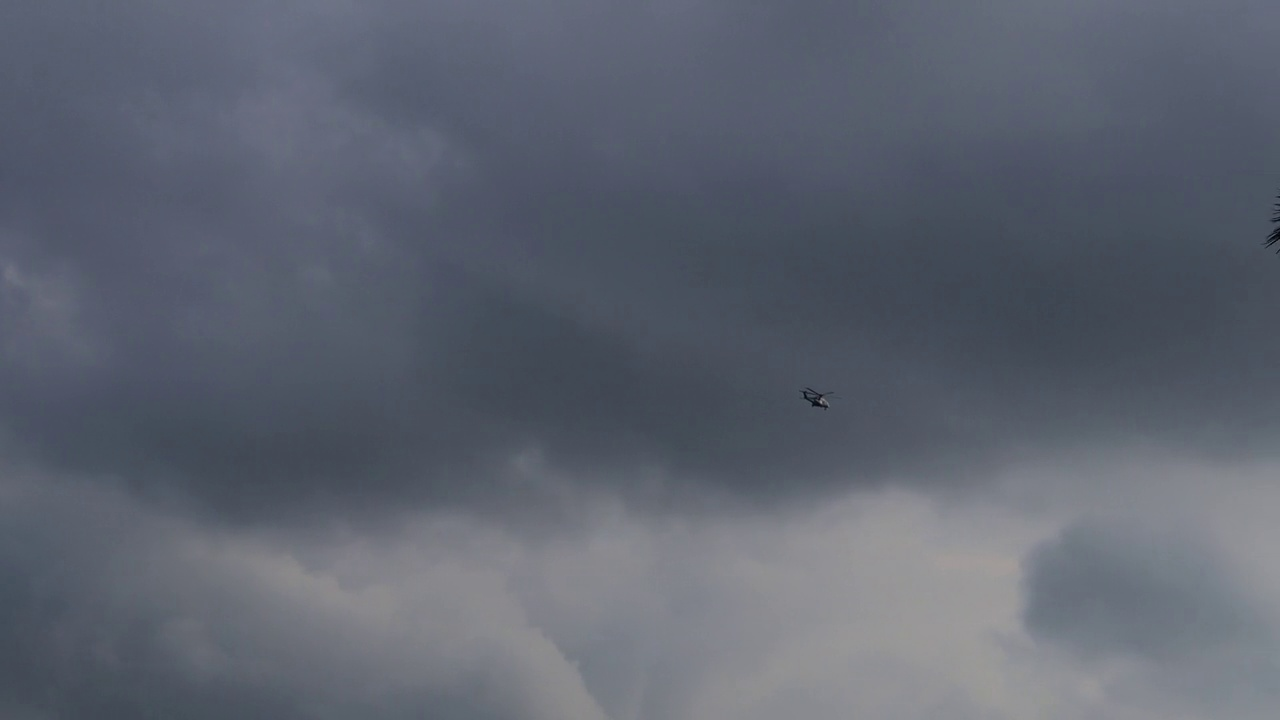heli: (799, 385, 842, 410)
